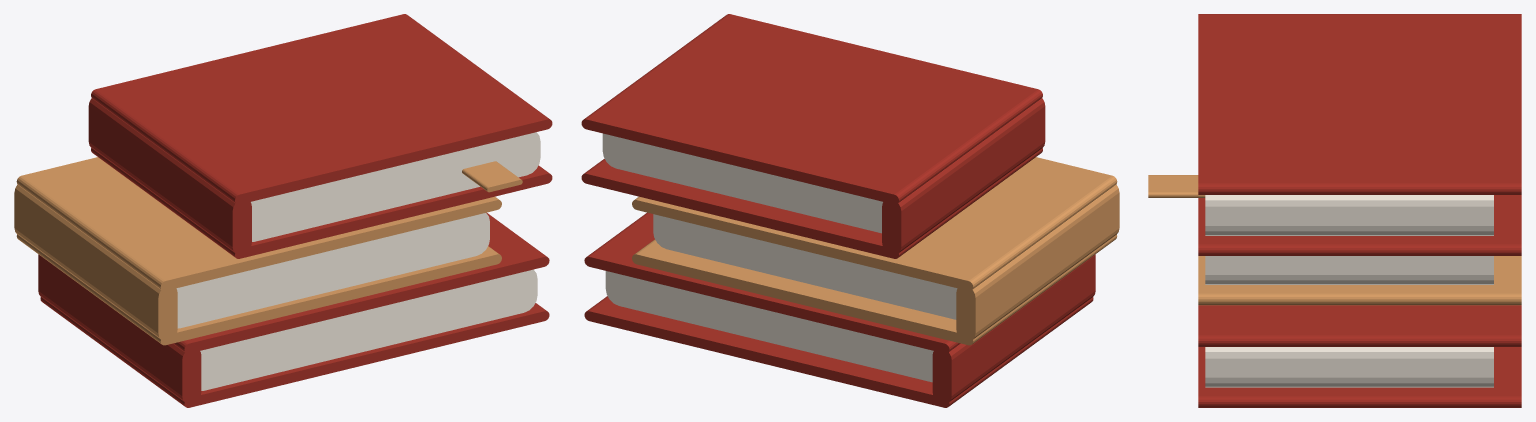
Rendered from books.glb.
The picture shows the model from 3 angles, left to right: view 1: azimuth 30°, elevation 25°; view 2: azimuth 150°, elevation 25°; view 3: azimuth 270°, elevation 25°; orthographic projection. The views are drawn at different scales.
Parts seen in each view (by area): view 1: cover 2 0.175, cover 1 0.175, pages 0, pages 1, pages 2, spine 2, spine 1, spine 0, cover 0 0.175, cover 0 0, cover 1 0, cover 2 0 (+1 smaller); view 2: cover 2 0.175, cover 1 0.175, pages 0, pages 1, pages 2, cover 0 0, spine 1, cover 1 0, spine 2, cover 2 0, spine 0, cover 0 0.175; view 3: cover 2 0.175, cover 0 0.175, pages 0, pages 2, pages 1, cover 0 0, cover 2 0, cover 1 0, ribbon.
Part boxes in pixels (<box>): cover 2 0.175: <box>91,14,552,204</box>; cover 1 0.175: <box>16,157,501,290</box>; pages 0: <box>200,269,537,390</box>; pages 1: <box>176,213,489,328</box>; pages 2: <box>251,132,540,241</box>; spine 2: <box>88,98,251,254</box>; spine 1: <box>14,184,177,341</box>; spine 0: <box>38,254,201,403</box>; cover 0 0.175: <box>173,212,549,353</box>; cover 0 0: <box>40,297,549,407</box>; cover 1 0: <box>16,234,501,345</box>; cover 2 0: <box>91,148,552,258</box>; cover 2 0.175: <box>581,14,1042,204</box>; cover 1 0.175: <box>632,157,1117,290</box>; pages 0: <box>605,271,933,382</box>; pages 1: <box>653,214,957,319</box>; pages 2: <box>602,133,882,233</box>; cover 0 0: <box>584,296,1093,407</box>; spine 1: <box>956,184,1119,341</box>; cover 1 0: <box>632,234,1117,345</box>; spine 2: <box>882,98,1045,254</box>; cover 2 0: <box>581,148,1042,258</box>; spine 0: <box>932,254,1095,403</box>; cover 0 0.175: <box>584,212,960,353</box>; cover 2 0.175: <box>1198,14,1521,194</box>; cover 0 0.175: <box>1198,305,1521,346</box>; pages 0: <box>1205,347,1493,387</box>; pages 2: <box>1205,195,1493,235</box>; pages 1: <box>1205,256,1493,284</box>; cover 0 0: <box>1198,347,1521,407</box>; cover 2 0: <box>1198,195,1521,255</box>; cover 1 0: <box>1198,256,1521,305</box>; ribbon: <box>1148,175,1205,197</box>.
Size of the model in its own units: 1.33 by 0.647 by 0.97.
